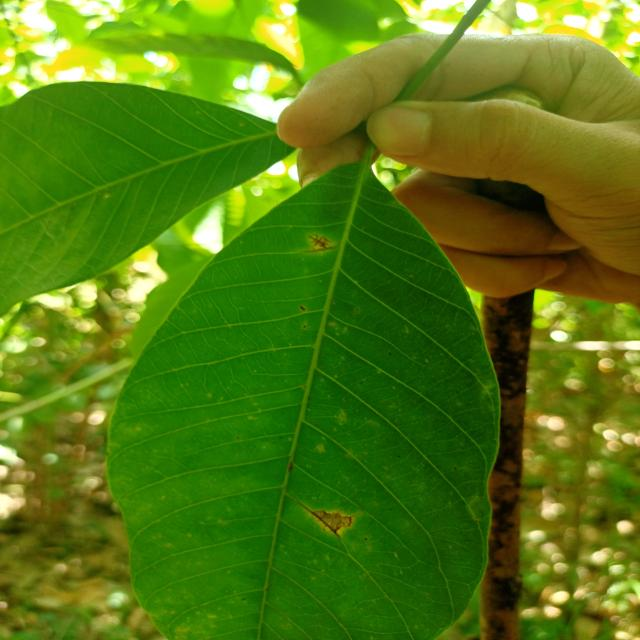Colletotrichum: (364, 538, 367, 540)
Corynespora: (298, 501, 355, 538), (304, 234, 338, 253)
